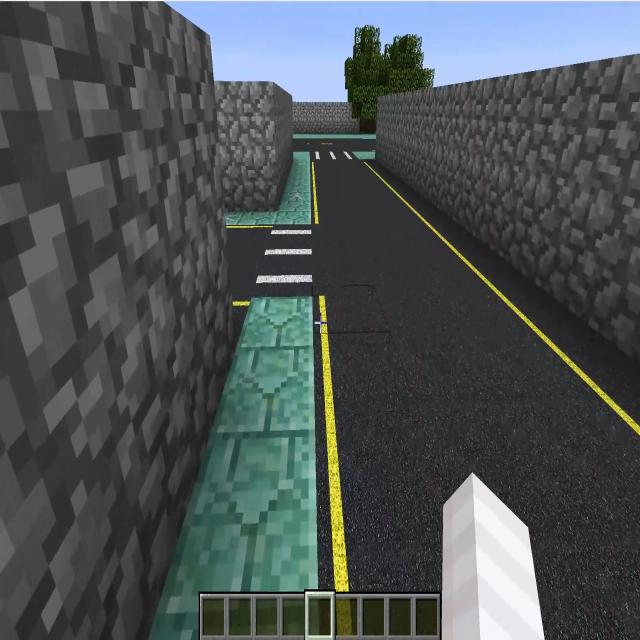crosswalk: (256, 226, 312, 294), (311, 152, 359, 162)
road: (312, 163, 640, 639), (227, 226, 272, 304), (294, 139, 376, 151)
sidewalk: (149, 296, 318, 639), (226, 152, 310, 224), (293, 135, 377, 139), (351, 150, 375, 160)
